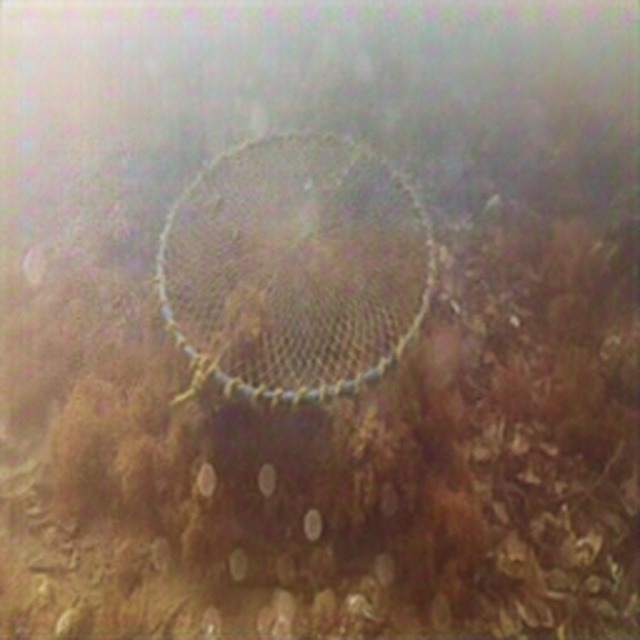mine: (155, 126, 436, 410)
